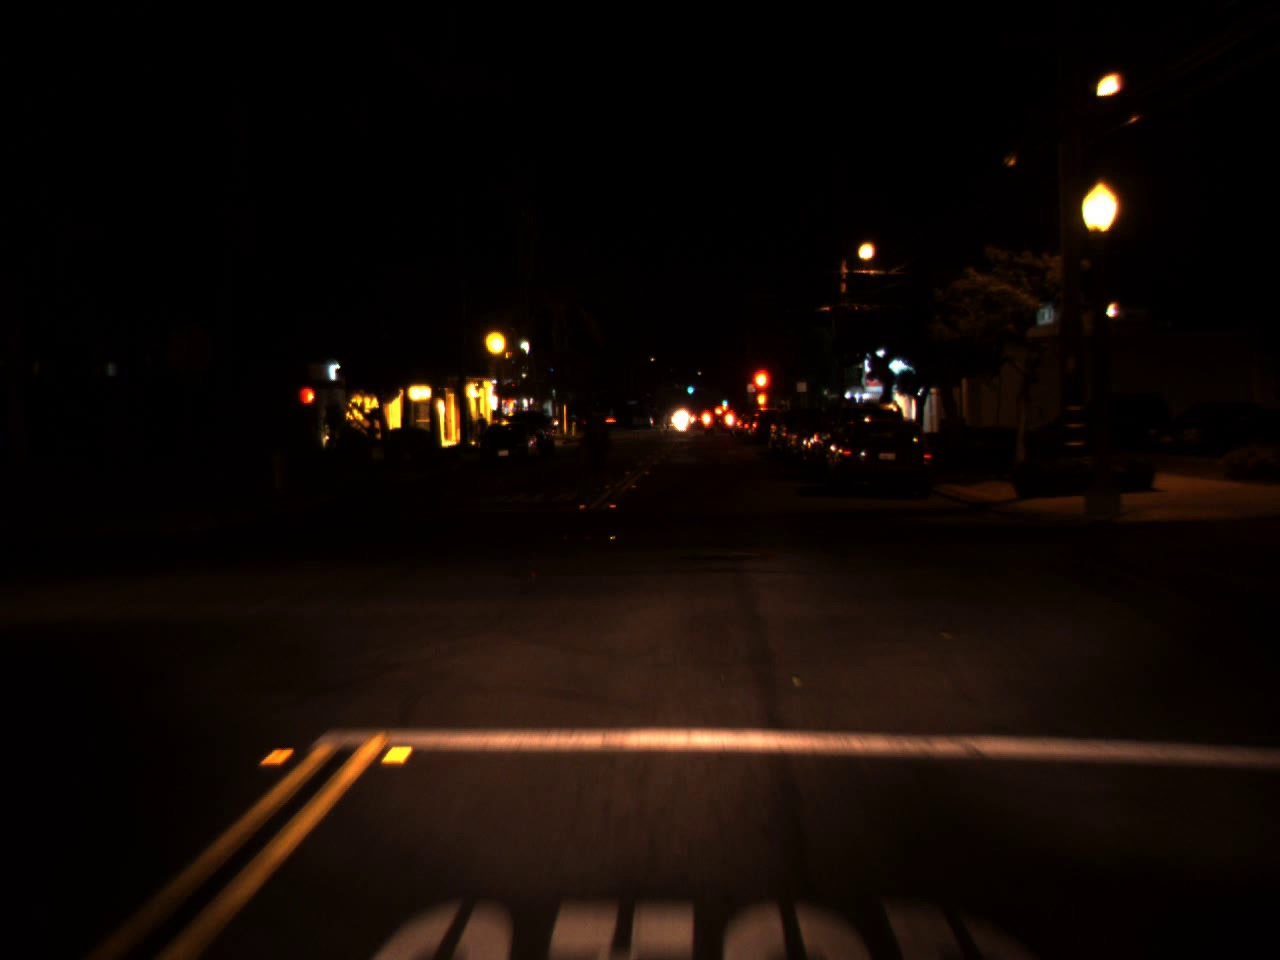go: (685, 380, 694, 395), (719, 392, 728, 407)
stop: (747, 365, 774, 416)
